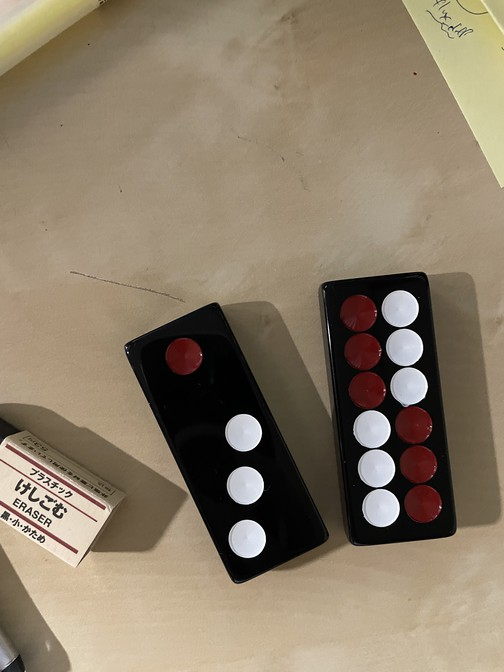goose: (124, 303, 328, 589)
heaven: (317, 273, 460, 544)
